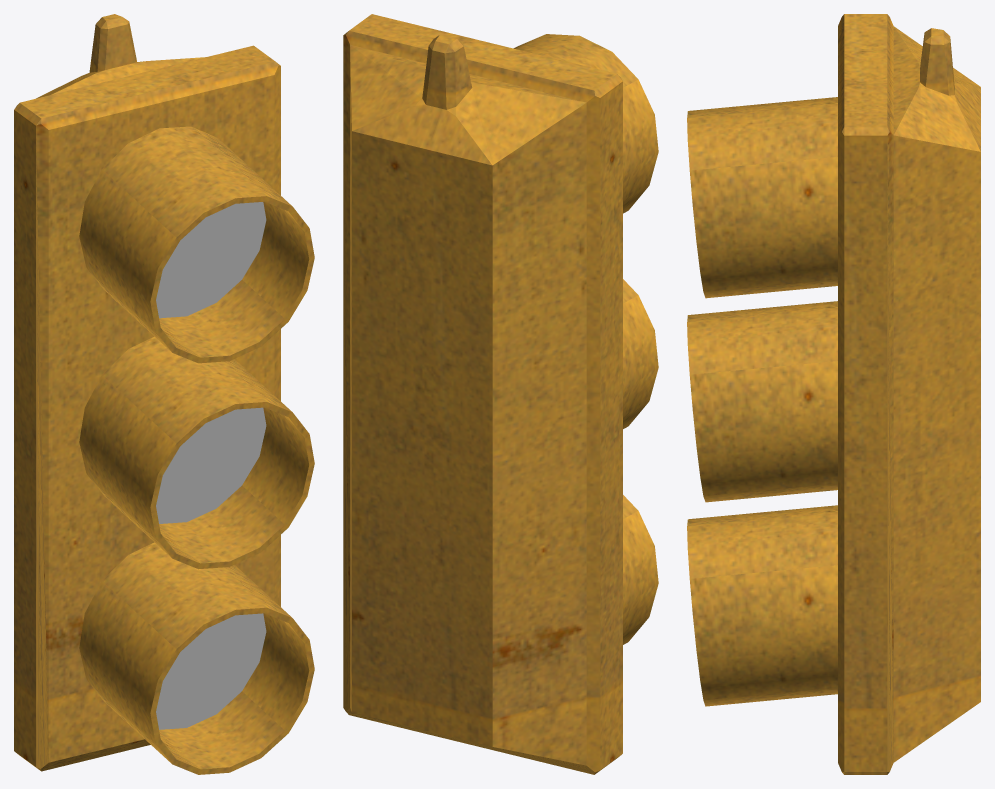
The model's file is DT_Trafficlight_housing_single_01.fbx.
3 views of the same model, side by side, from view 1: azimuth 30°, elevation 25°; view 2: azimuth 150°, elevation 25°; view 3: azimuth 270°, elevation 25° (orthographic). The views are drawn at different scales.
Visible parts, largest first — view 1: DT_Trafficlight_housing_single_01; view 2: DT_Trafficlight_housing_single_01; view 3: DT_Trafficlight_housing_single_01.
Boxes of the visible parts, box(x1,y1,x2,y2) form: DT_Trafficlight_housing_single_01: box(14, 14, 314, 774); DT_Trafficlight_housing_single_01: box(343, 14, 658, 774); DT_Trafficlight_housing_single_01: box(687, 14, 980, 774).
Bounding box in the file's own units: 44.75 × 121 × 46.85.
